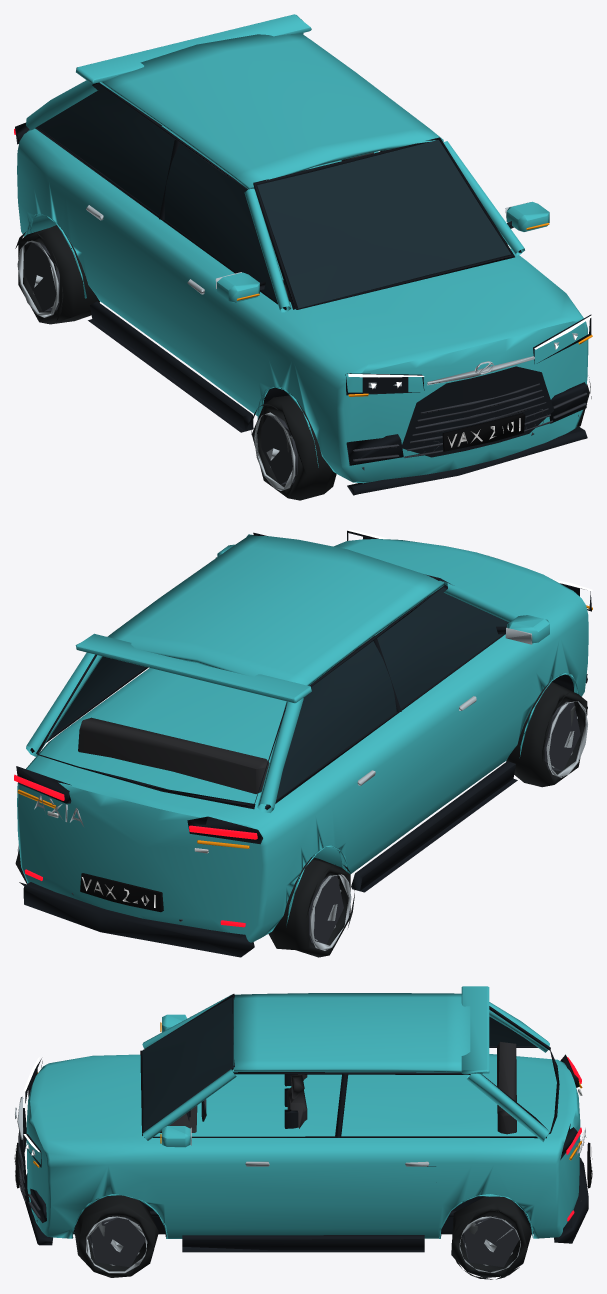
File: axia-far.glb
The picture shows the model from 3 angles, top to bottom: view 1: azimuth 30°, elevation 25°; view 2: azimuth 150°, elevation 25°; view 3: azimuth 270°, elevation 25°; orthographic projection. The views are drawn at different scales.
Visible parts, largest first — view 1: chassis.001__Automotive clearcoat, chassis.001__Solar glass, chassis.001__Satin black trim, wheel_FL.001__Tyre rubber, wheel_RL.001__Tyre rubber, chassis.001__Graphite alloy, chassis.001__Black registration plate, wheel_FL.001__Graphite alloy, wheel_RL.001__Graphite alloy, chassis.001__Machined aluminium, wheel_RL.001__Machined aluminium, wheel_FL.001__Machined aluminium; view 2: chassis.001__Automotive clearcoat, chassis.001__Solar glass, chassis.001__Satin black trim, chassis.001__Charcoal upholstery, wheel_FL.001__Tyre rubber, wheel_RL.001__Tyre rubber, chassis.001__Black registration plate, wheel_FL.001__Graphite alloy, wheel_RL.001__Graphite alloy, chassis.001__Red LED optics, chassis.001__Machined aluminium, wheel_RL.001__Machined aluminium (+1 smaller); view 3: chassis.001__Automotive clearcoat, chassis.001__Satin black trim, chassis.001__Solar glass, wheel_RR.001__Tyre rubber, wheel_FR.001__Tyre rubber, chassis.001__Charcoal upholstery, wheel_RR.001__Graphite alloy, wheel_FR.001__Graphite alloy, chassis.001__Machined aluminium, wheel_FR.001__Machined aluminium, chassis.001__Graphite alloy, wheel_RR.001__Machined aluminium.
Boxes of the visible parts, x1,y1,x2,y2 form: chassis.001__Automotive clearcoat: (17, 14, 588, 483); chassis.001__Solar glass: (38, 84, 512, 308); chassis.001__Satin black trim: (15, 82, 591, 495); wheel_FL.001__Tyre rubber: (251, 395, 336, 500); wheel_RL.001__Tyre rubber: (15, 225, 99, 324); chassis.001__Graphite alloy: (353, 383, 586, 470); chassis.001__Black registration plate: (442, 413, 525, 451); wheel_FL.001__Graphite alloy: (261, 415, 297, 484); wheel_RL.001__Graphite alloy: (25, 242, 59, 311); chassis.001__Machined aluminium: (86, 202, 577, 388); wheel_RL.001__Machined aluminium: (17, 240, 58, 317); wheel_FL.001__Machined aluminium: (254, 412, 295, 490); chassis.001__Automotive clearcoat: (17, 534, 588, 942); chassis.001__Solar glass: (50, 587, 508, 806); chassis.001__Satin black trim: (16, 530, 591, 957); chassis.001__Charcoal upholstery: (78, 636, 374, 793); wheel_FL.001__Tyre rubber: (506, 681, 587, 787); wheel_RL.001__Tyre rubber: (268, 857, 354, 957); chassis.001__Black registration plate: (80, 873, 163, 912); wheel_FL.001__Graphite alloy: (544, 701, 580, 771); wheel_RL.001__Graphite alloy: (309, 875, 343, 944); chassis.001__Red LED optics: (14, 774, 257, 927); chassis.001__Machined aluminium: (34, 555, 532, 826); wheel_RL.001__Machined aluminium: (310, 874, 351, 950); chassis.001__Automotive clearcoat: (26, 986, 580, 1238); chassis.001__Satin black trim: (20, 994, 588, 1252); chassis.001__Solar glass: (142, 997, 535, 1131); wheel_RR.001__Tyre rubber: (451, 1196, 531, 1279); wheel_FR.001__Tyre rubber: (74, 1195, 158, 1277); chassis.001__Charcoal upholstery: (159, 1042, 516, 1134); wheel_RR.001__Graphite alloy: (462, 1216, 519, 1267); wheel_FR.001__Graphite alloy: (89, 1216, 145, 1267); chassis.001__Machined aluminium: (15, 1016, 586, 1166); wheel_FR.001__Machined aluminium: (86, 1216, 147, 1273); chassis.001__Graphite alloy: (18, 1099, 581, 1222); wheel_RR.001__Machined aluminium: (459, 1216, 520, 1272).
Bounding box in the file's own units: 1.98 × 1.51 × 3.92.
